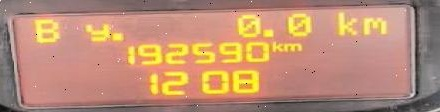-: (259, 26, 276, 37), (109, 29, 123, 41)
0: (199, 67, 227, 94), (233, 12, 258, 37), (286, 12, 311, 36), (244, 41, 267, 62)
1: (143, 70, 159, 95), (123, 42, 136, 65)
2: (161, 69, 188, 94), (163, 41, 187, 64)
5: (190, 42, 213, 63)
8: (230, 69, 257, 94)
9: (216, 40, 241, 63), (136, 43, 160, 64)
X: (31, 19, 63, 46), (358, 14, 387, 35), (334, 9, 358, 34), (81, 21, 108, 42), (270, 40, 283, 52), (283, 42, 300, 51)
